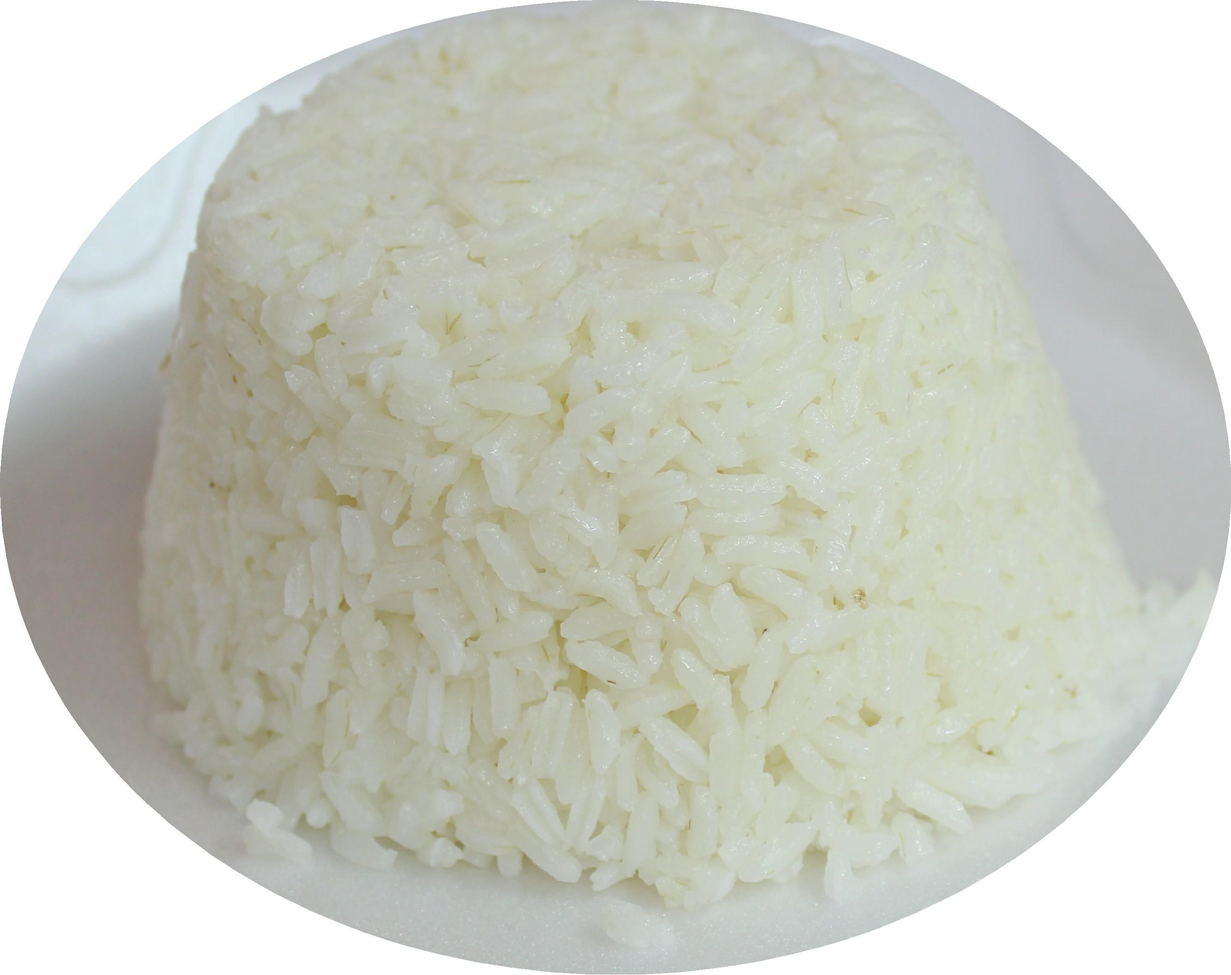WhiteRice: (135, 0, 1111, 907)
